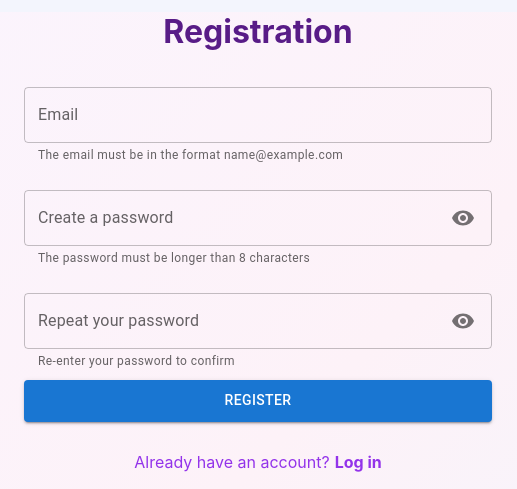
Test case: RegistrationForm › shows validation error for invalid email
Type "invalid-email" into the field labelled "Email" at [258, 115], box [24,87,492,143]
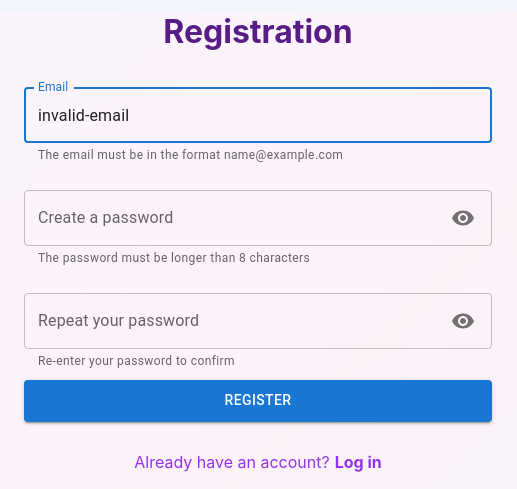
Type "password123!" into the password field labelled "Create a password" at [230, 218], box [24,190,435,246]
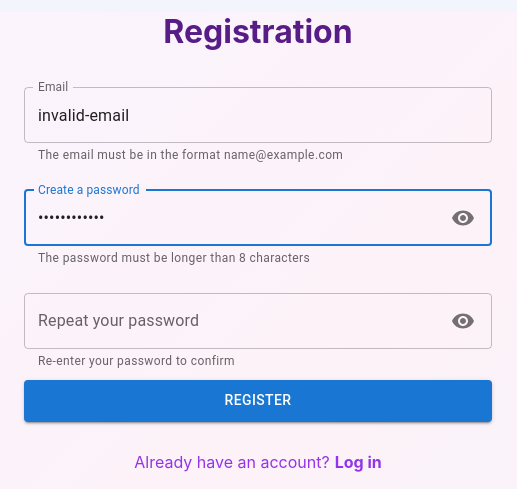
Type "password123!" into the password field labelled "Repeat your password" at [230, 321], box [24,293,435,349]
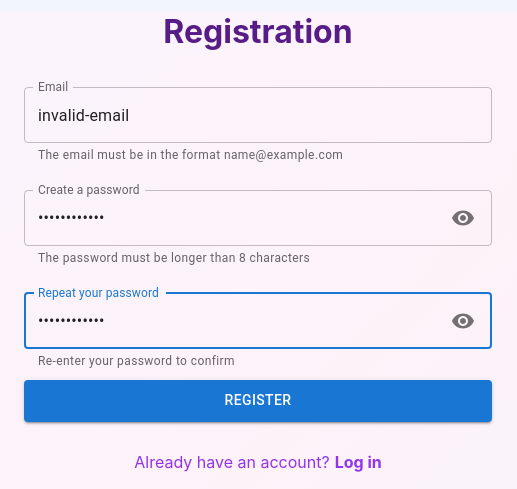
Click the button "Register" at [258, 401], box [24,380,492,422]
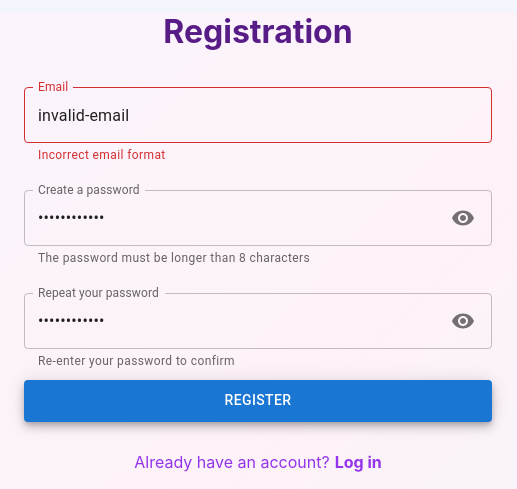
Expected: the text "Incorrect email format" is shown, [38,148,166,162]
